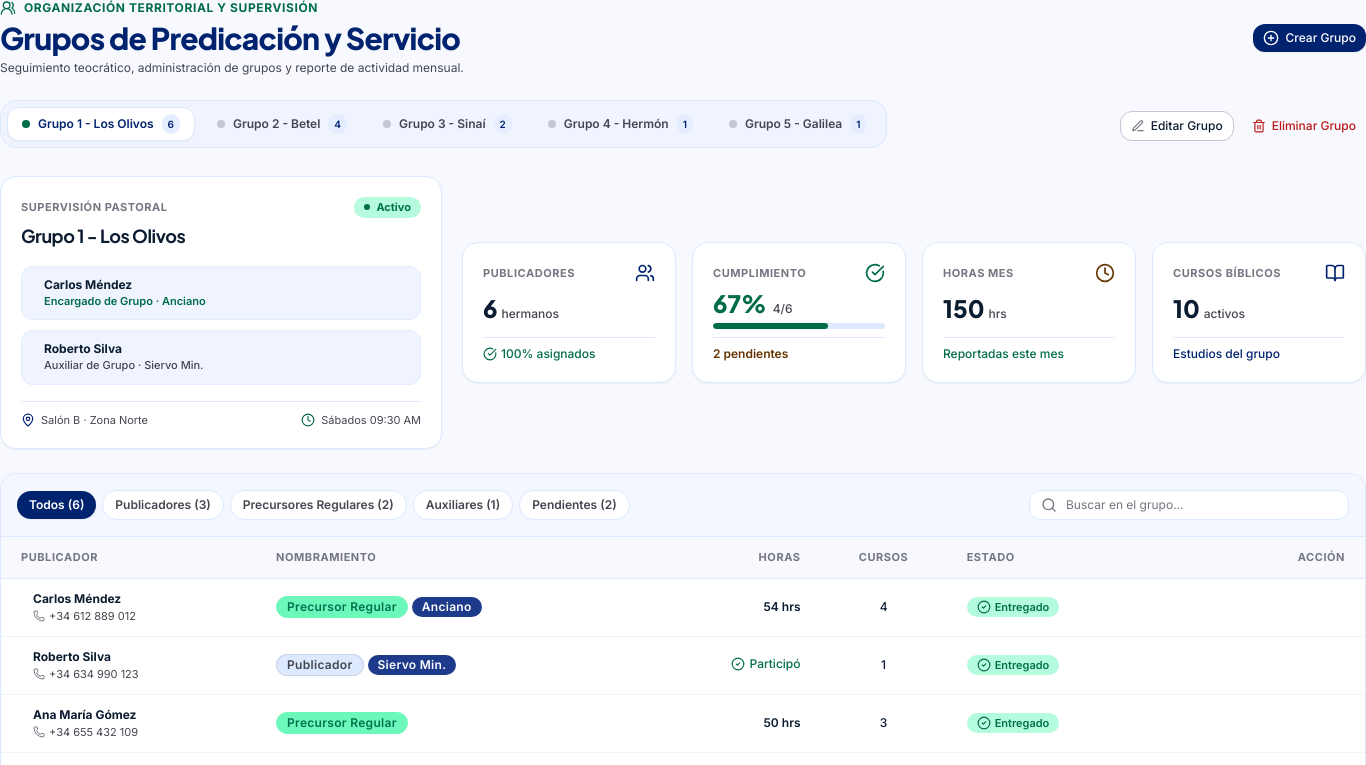
ServiceGroupsPage › permite abrir el modal de crear grupo y registrar uno nuevo
Click the button "Crear Grupo" at (1310, 38), box [1254, 24, 1365, 52]
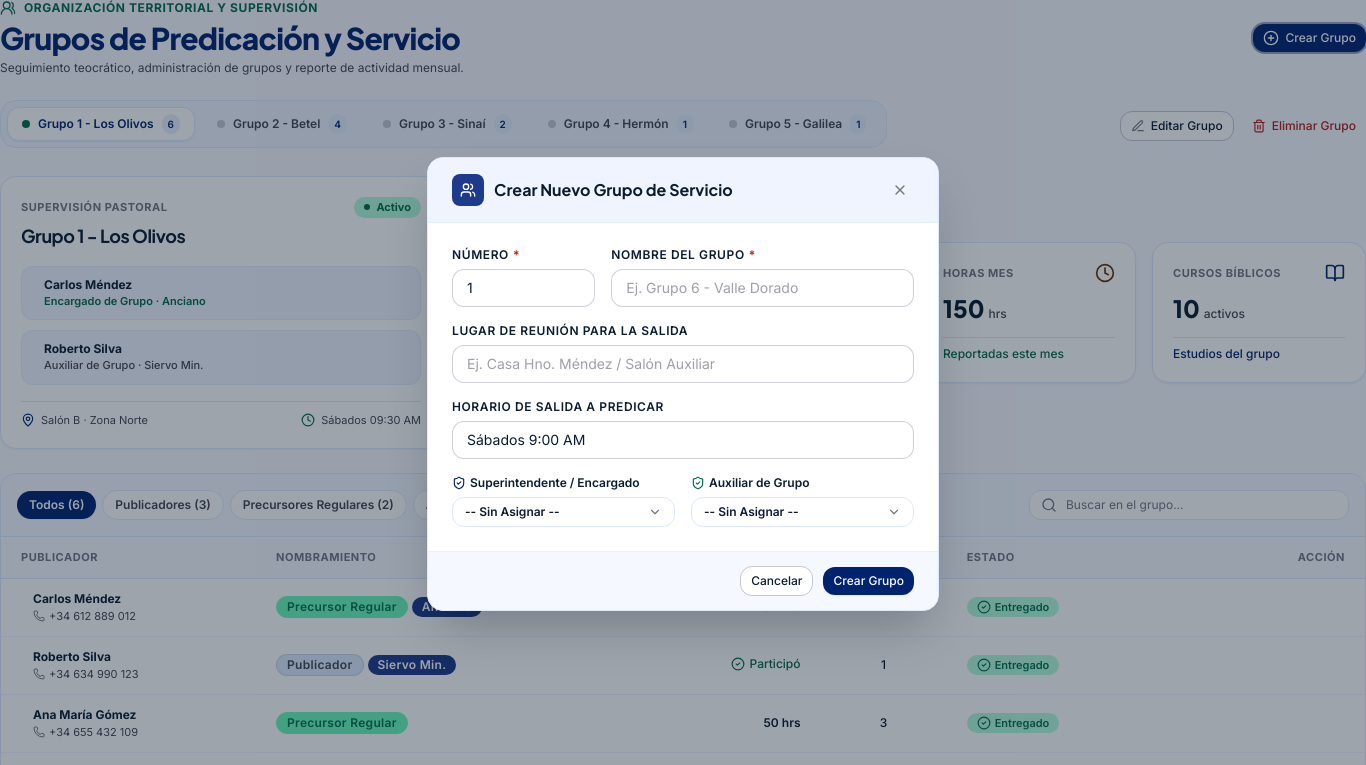
Expected: the heading "Crear Nuevo Grupo de Servicio" is shown, [494, 178, 733, 202]
Type "Grupo 6 - Valle Dorado" into the field labelled "Nombre del Grupo*" at (763, 288), box [611, 269, 914, 307]
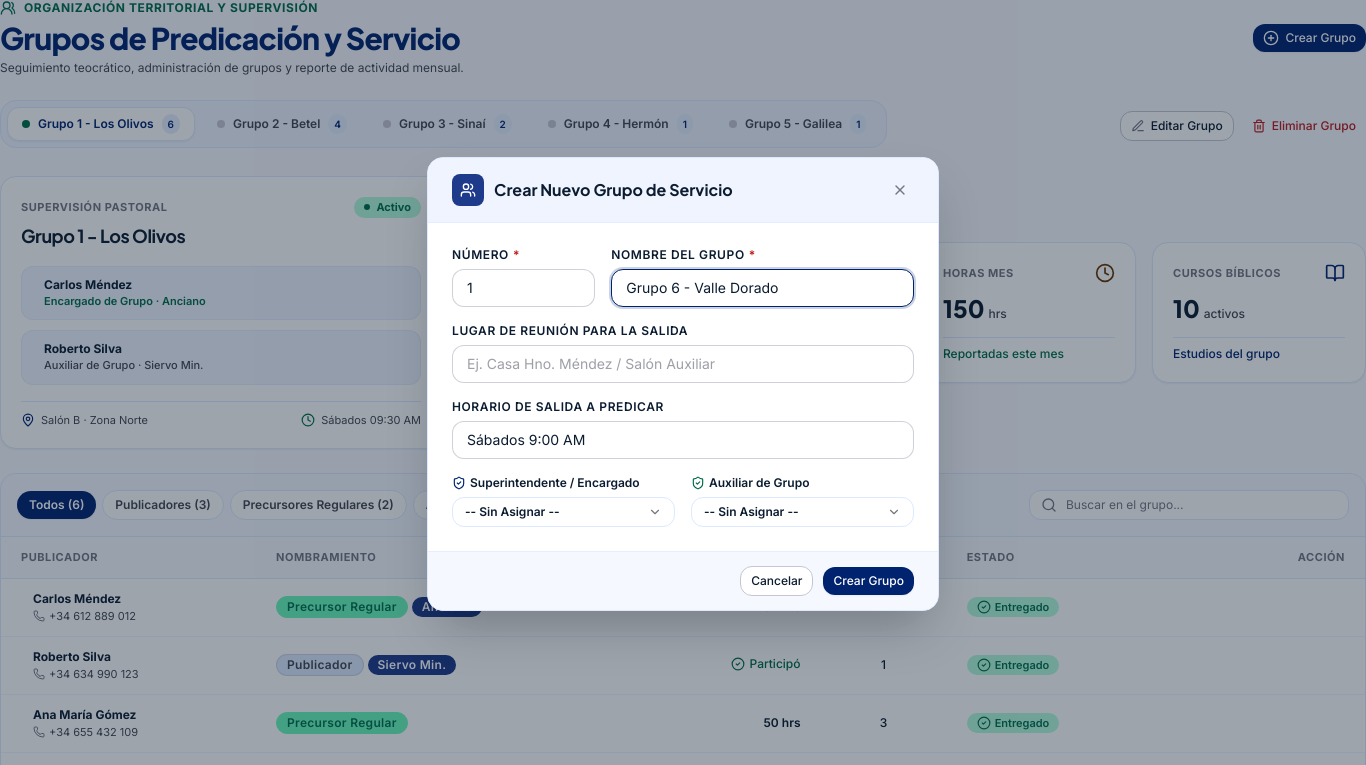
Click the button "Crear Grupo" at (869, 581), box [824, 567, 914, 595]
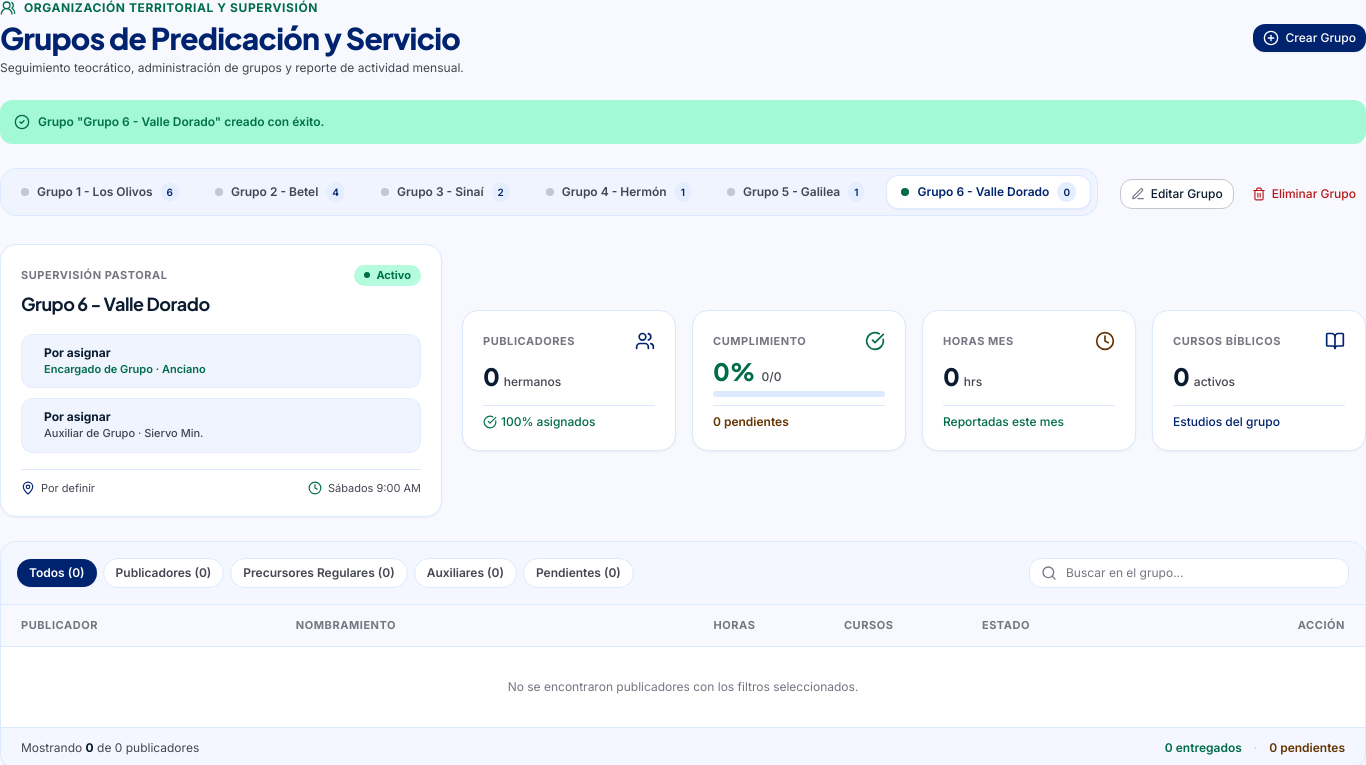
Expected: the text "Grupo \"Grupo 6 - Valle Dorado\" creado con éxito." is shown, [38, 114, 324, 130]
